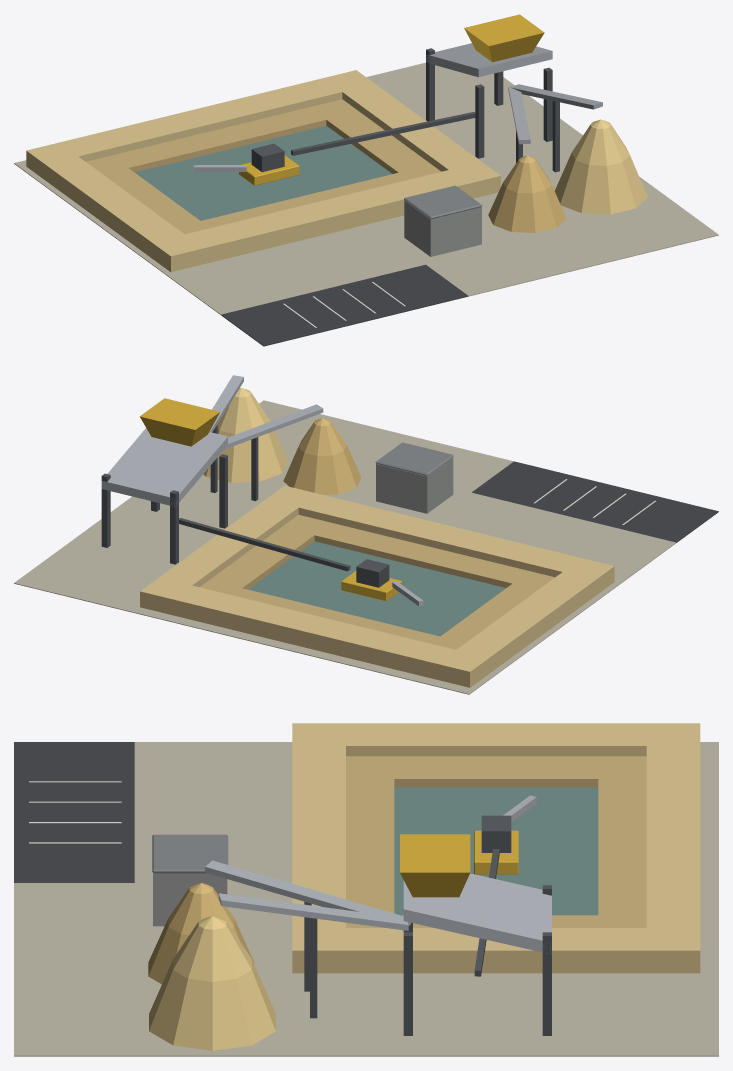
Rendered from sandpit.glb.
3 views of the same model, one above another, from view 1: azimuth 30°, elevation 25°; view 2: azimuth 150°, elevation 25°; view 3: azimuth 270°, elevation 25° (orthographic). The views are drawn at different scales.
Visible parts, largest first — view 1: sandpit; view 2: sandpit; view 3: sandpit.
Boxes of the visible parts, <box> form: sandpit: <box>14,14,718,346</box>; sandpit: <box>14,375,718,694</box>; sandpit: <box>14,723,718,1056</box>.
Bounding box in the file's own units: 40 × 9.4 × 38.
